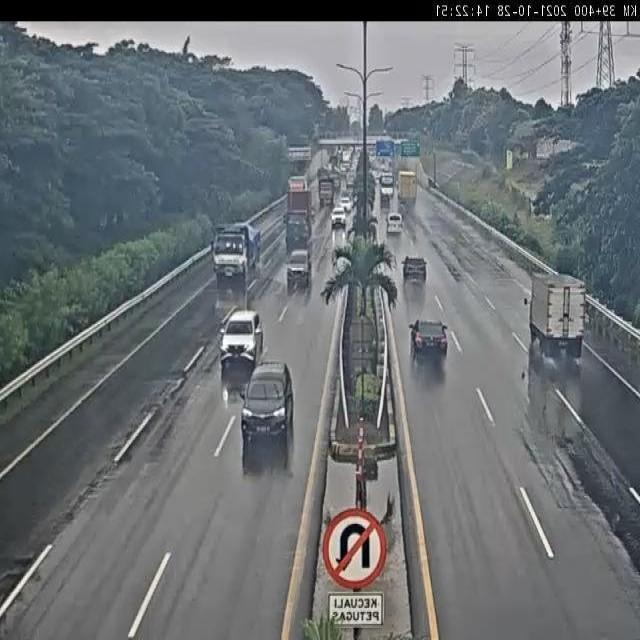Bus: (379, 174, 395, 207)
Car: (240, 360, 295, 472), (218, 308, 264, 378), (409, 318, 450, 367), (286, 249, 311, 294), (402, 255, 427, 283), (331, 206, 346, 228), (339, 195, 352, 212)
Truck: (528, 270, 588, 359), (211, 222, 261, 296), (282, 189, 312, 249), (397, 169, 418, 210), (317, 175, 335, 207)
Van: (387, 212, 404, 234)
